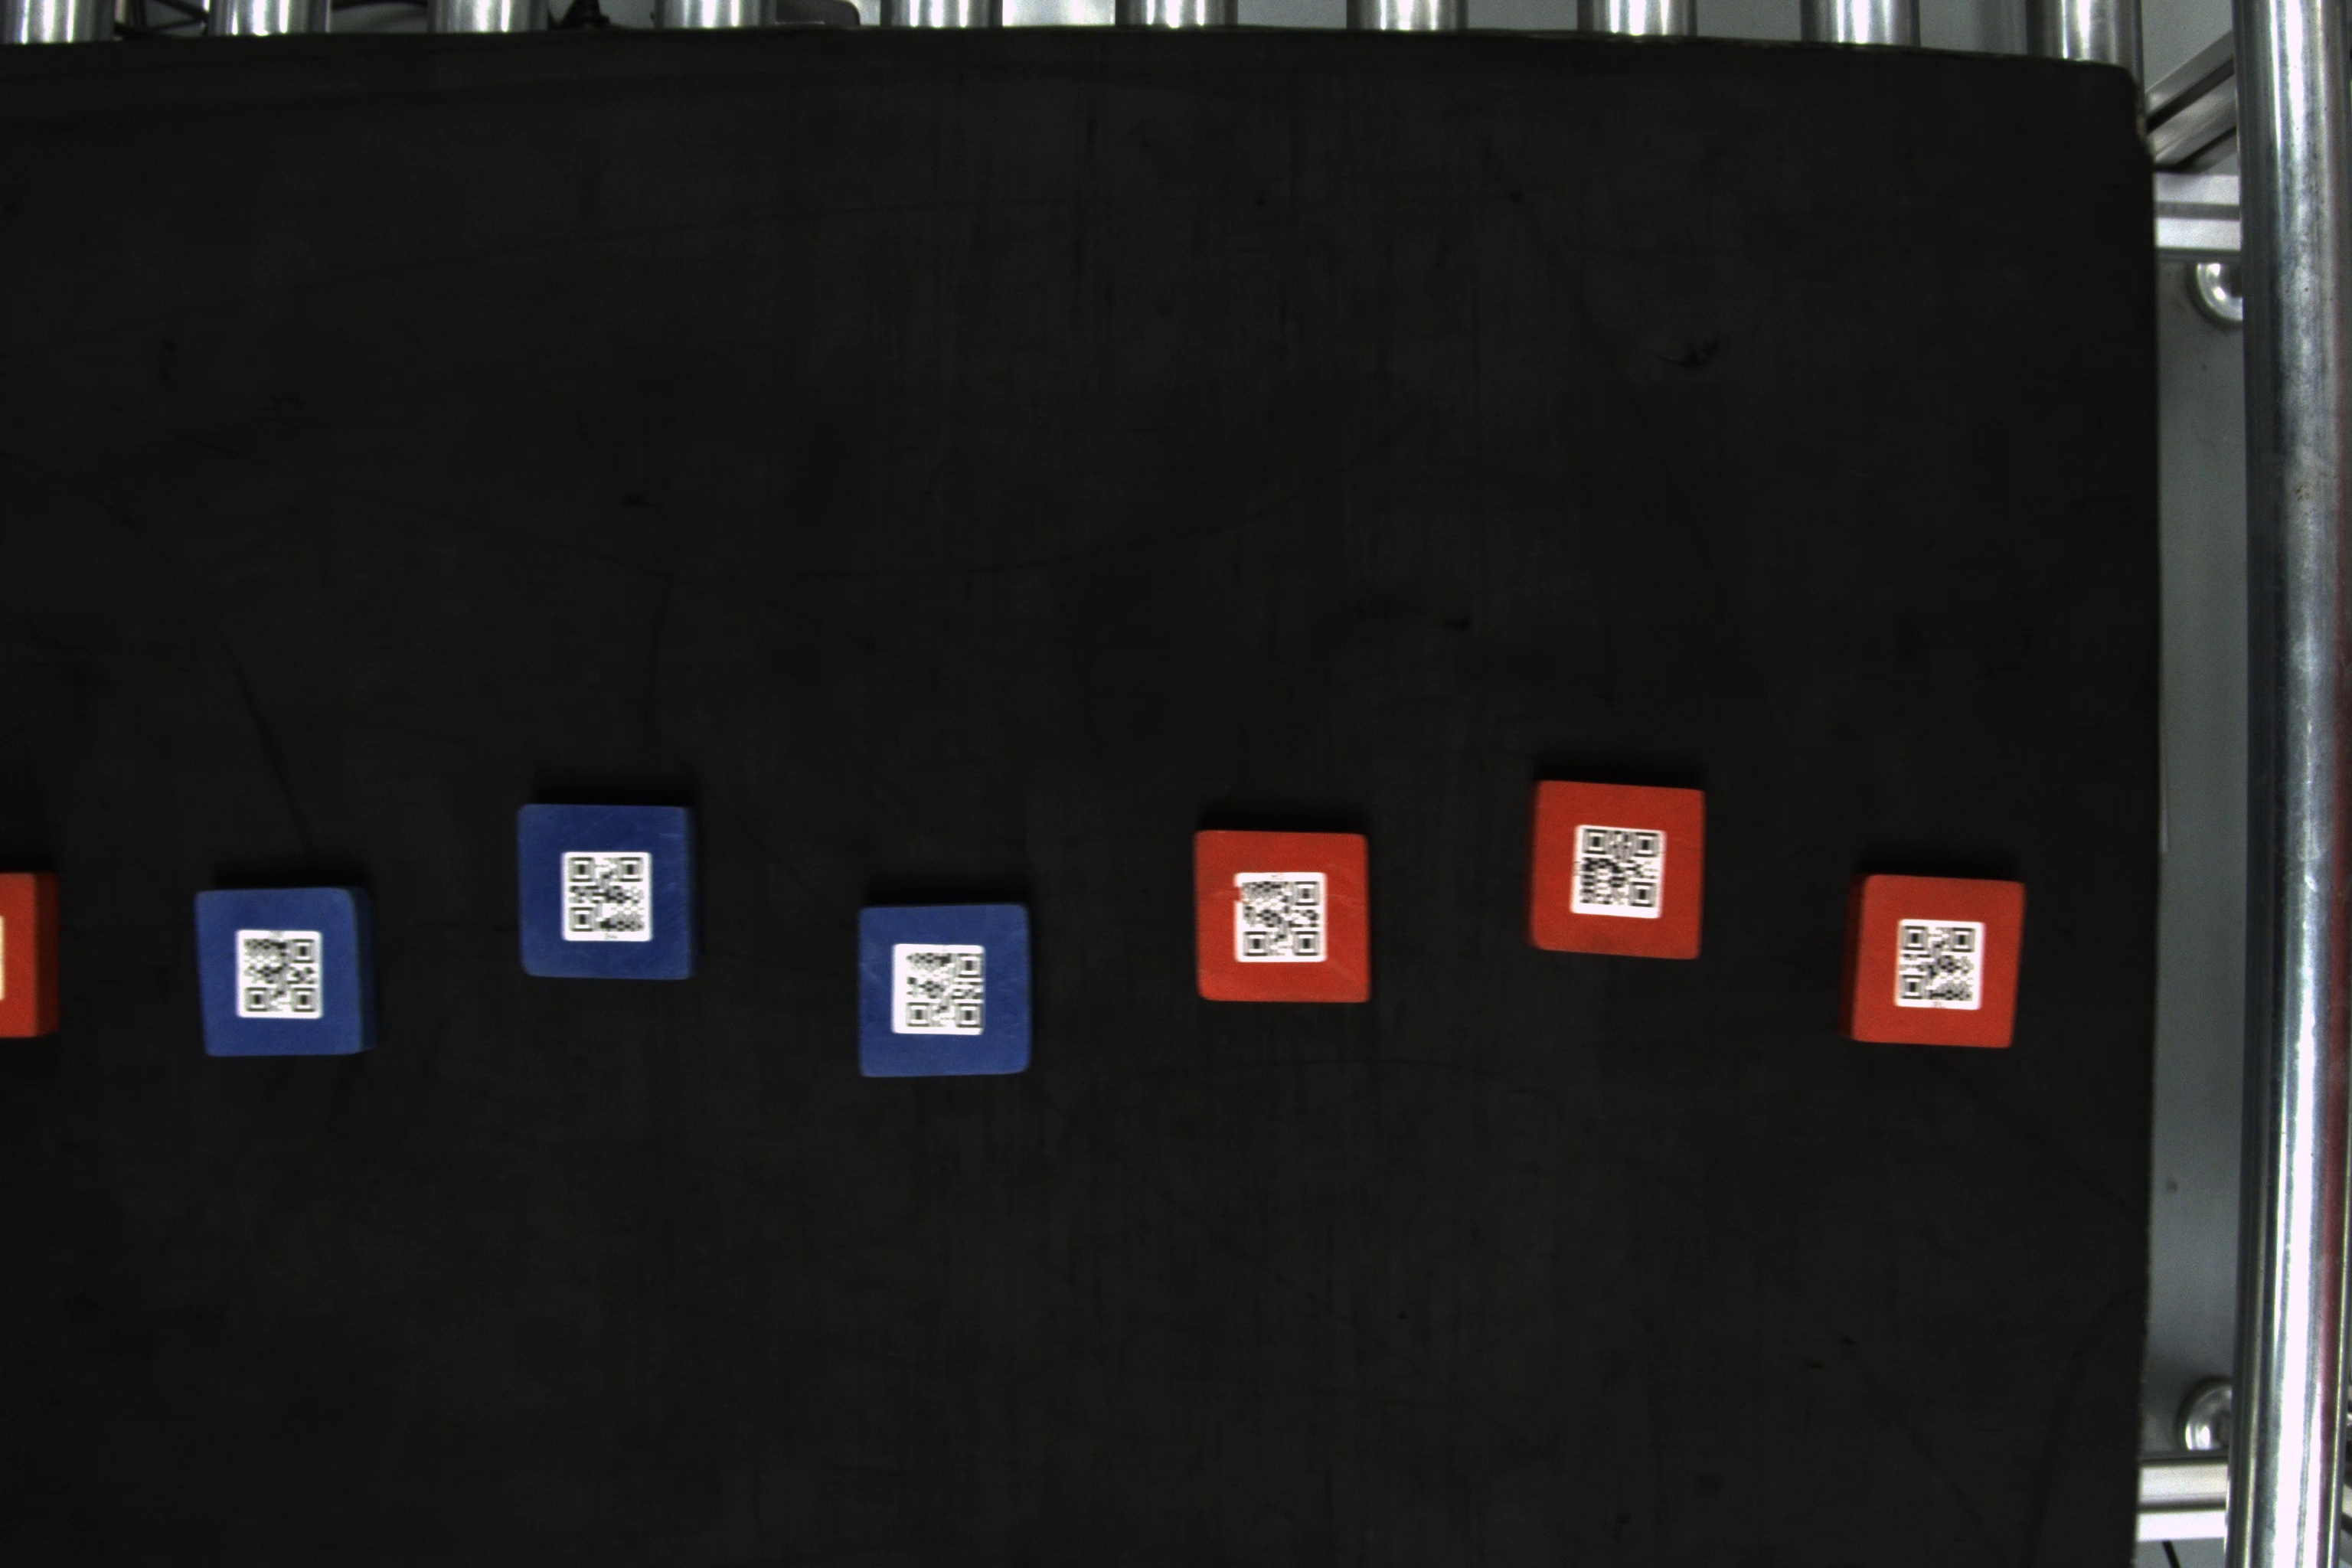wood: (506, 796, 700, 990), (1188, 826, 1379, 1008), (1848, 864, 2030, 1053), (1531, 777, 1711, 966), (189, 884, 374, 1066), (850, 901, 1039, 1078)
